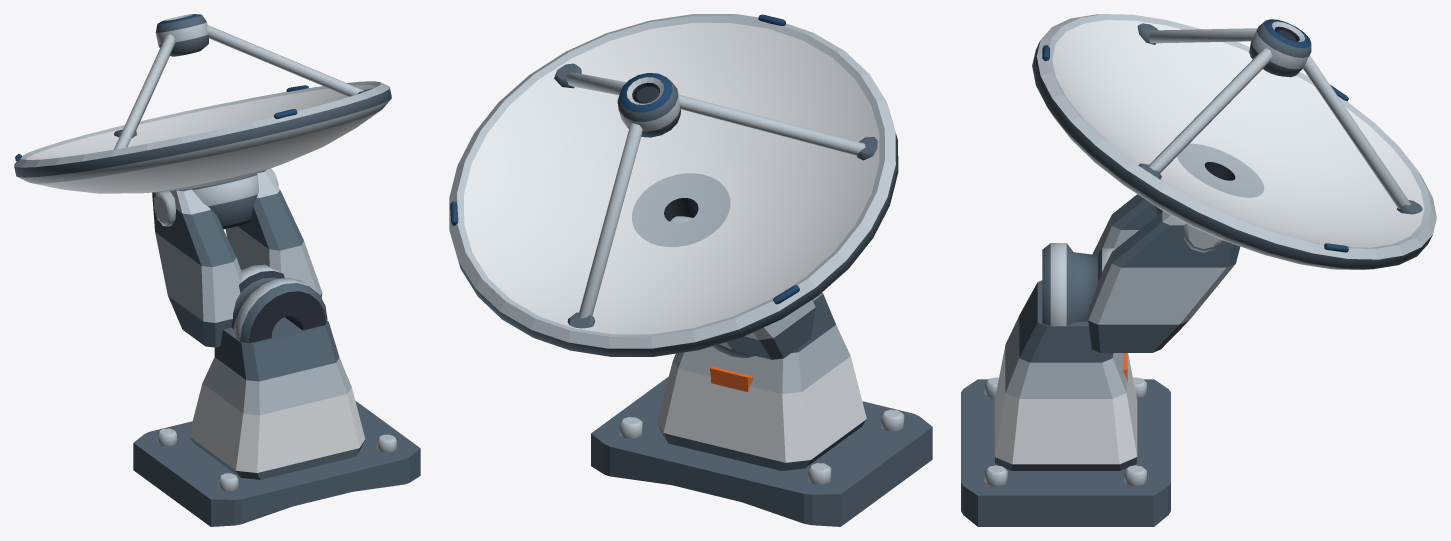
The model's file is antena_c01.glb.
The picture shows the model from 3 angles, left to right: view 1: azimuth 30°, elevation 25°; view 2: azimuth 150°, elevation 25°; view 3: azimuth 270°, elevation 25°; orthographic projection. The views are drawn at different scales.
Parts seen in each view (by area): view 1: ANT-C01 | Zapata curva, brazo y fijaciones, ANT-C01 | Reflector cerámico y aro, ANT-C01 | Giro, horquilla y eje, ANT-C01 | Emisor y tres puntales; view 2: ANT-C01 | Reflector cerámico y aro, ANT-C01 | Zapata curva, brazo y fijaciones, ANT-C01 | Emisor y tres puntales, ANT-C01 | Giro, horquilla y eje; view 3: ANT-C01 | Reflector cerámico y aro, ANT-C01 | Zapata curva, brazo y fijaciones, ANT-C01 | Giro, horquilla y eje, ANT-C01 | Emisor y tres puntales.
Part boxes in pixels (x1,y1,x2,y2): ANT-C01 | Zapata curva, brazo y fijaciones: (133, 317, 420, 526); ANT-C01 | Reflector cerámico y aro: (14, 81, 391, 229); ANT-C01 | Giro, horquilla y eje: (152, 168, 327, 347); ANT-C01 | Emisor y tres puntales: (114, 14, 372, 149); ANT-C01 | Reflector cerámico y aro: (449, 14, 898, 356); ANT-C01 | Zapata curva, brazo y fijaciones: (591, 292, 932, 526); ANT-C01 | Emisor y tres puntales: (554, 63, 877, 328); ANT-C01 | Giro, horquilla y eje: (670, 216, 821, 359); ANT-C01 | Reflector cerámico y aro: (1032, 14, 1436, 269); ANT-C01 | Zapata curva, brazo y fijaciones: (961, 280, 1170, 526); ANT-C01 | Giro, horquilla y eje: (1042, 194, 1240, 352); ANT-C01 | Emisor y tres puntales: (1137, 19, 1422, 214).
Bounding box in the file's own units: 0.572 × 0.6406 × 0.6214.
